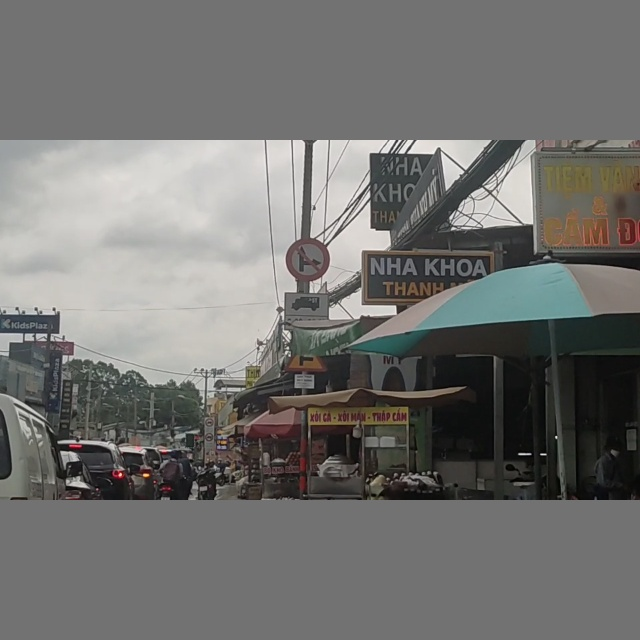P.139: (287, 239, 329, 279)
S.505a*Xe tai: (285, 291, 327, 321)
W.205b: (282, 357, 326, 370)
